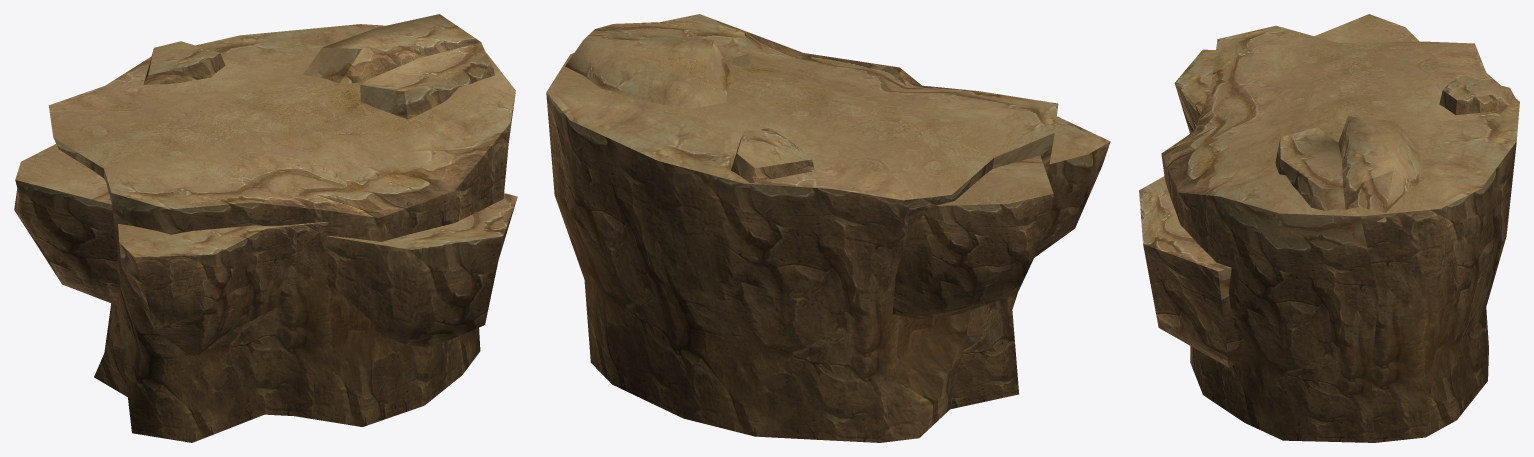
File: yw_huxiaoshamo_shitou01.FBX
3 renders of one model, left to right at view 1: azimuth 30°, elevation 25°; view 2: azimuth 150°, elevation 25°; view 3: azimuth 270°, elevation 25°, orthographic. The views are drawn at different scales.
Parts seen in each view (by area): view 1: yw_huxiaoshamo_shitou01; view 2: yw_huxiaoshamo_shitou01; view 3: yw_huxiaoshamo_shitou01.
Boxes of the visible parts, left/top/right/bottom form: yw_huxiaoshamo_shitou01: left=14, top=14, right=517, bottom=442; yw_huxiaoshamo_shitou01: left=546, top=14, right=1110, bottom=442; yw_huxiaoshamo_shitou01: left=1139, top=14, right=1519, bottom=442.
Bounding box in the file's own units: 1915 × 1167 × 1414.
